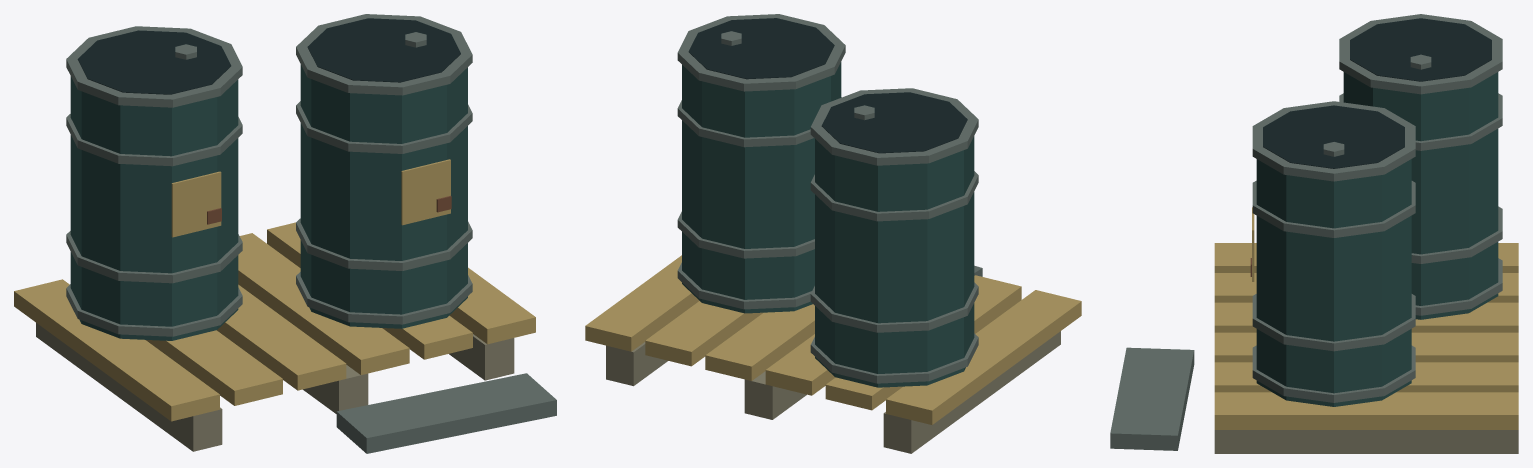
Rendered from v115-yard-drum-store.glb.
3 views of the same model, side by side, from view 1: azimuth 30°, elevation 25°; view 2: azimuth 150°, elevation 25°; view 3: azimuth 270°, elevation 25° (orthographic). The views are drawn at different scales.
Parts seen in each view (by area): view 1: drum-store; view 2: drum-store; view 3: drum-store.
Part boxes in pixels (<box>): drum-store: <box>14,14,556,453</box>; drum-store: <box>585,14,1081,453</box>; drum-store: <box>1110,14,1518,453</box>.
Bounding box in the file's own units: 1.5 × 1.18 × 1.5.
